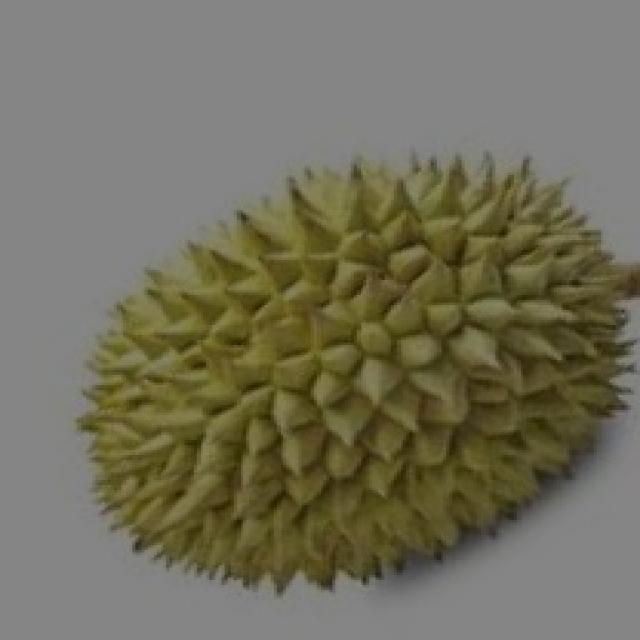fruit: (271, 230, 640, 630), (28, 230, 375, 632)
